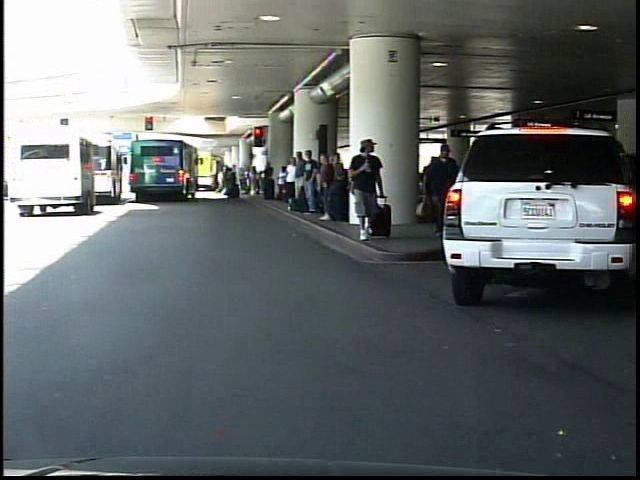person: (414, 134, 459, 244), (352, 135, 393, 244)
